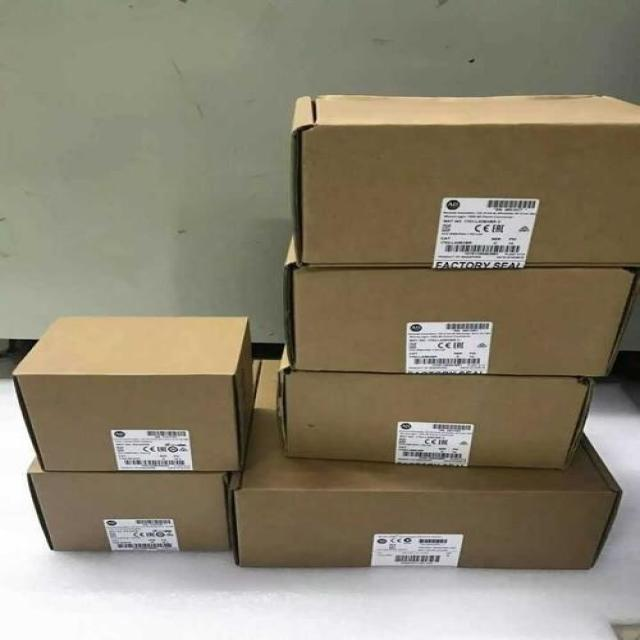box: (228, 360, 622, 570), (291, 93, 640, 267), (279, 233, 640, 377), (274, 344, 596, 472), (12, 317, 256, 472), (27, 455, 233, 551)
